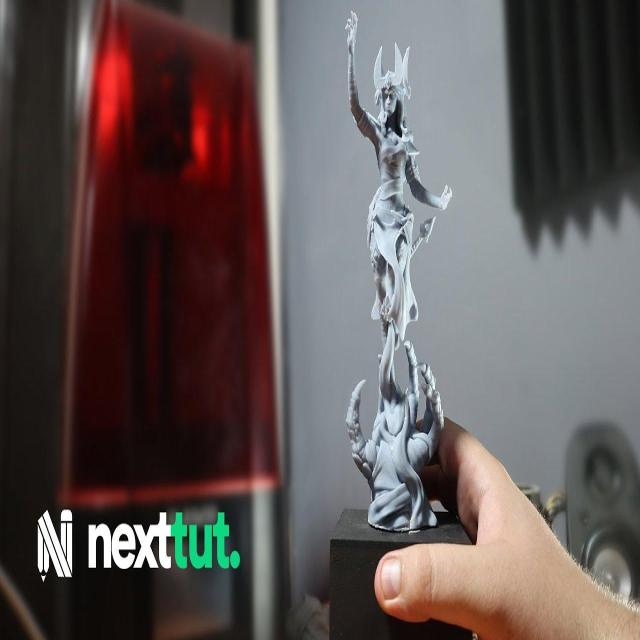Without deffect: (322, 21, 458, 534)
